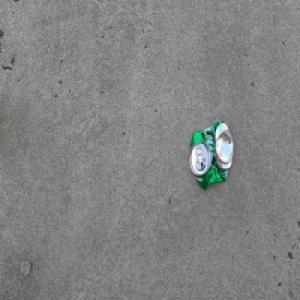SodaCan: (188, 119, 233, 190)
